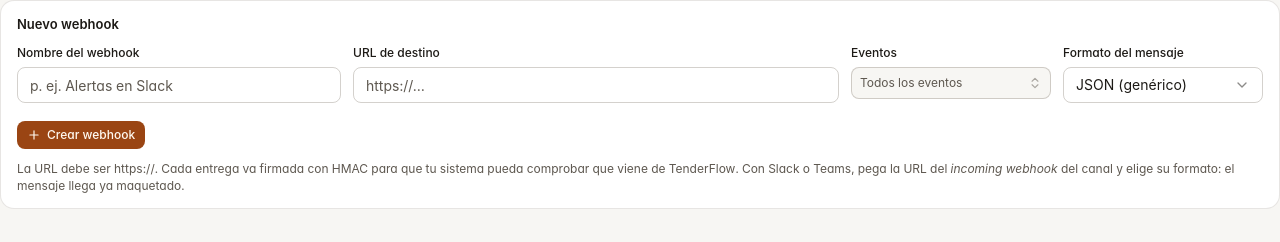
Scenario: CreateForm (webhooks) › una URL que no es https se para en cliente, como la pararía el backend
The width and height of the screenshot is (1280, 242).
In the field labelled "Nombre del webhook": (179,85) left=17, top=67, right=341, bottom=103, type "Slack"
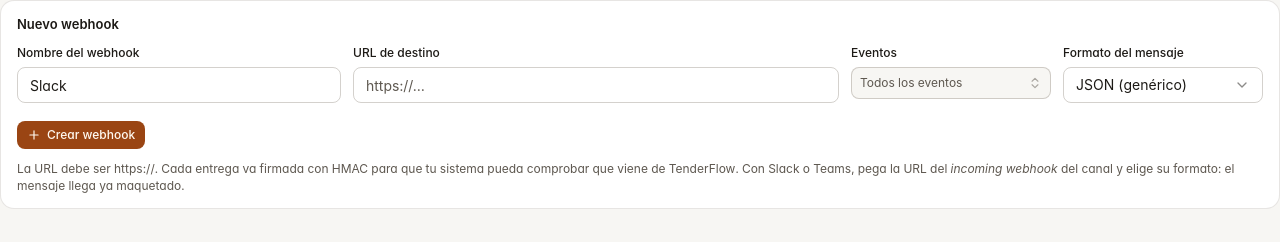
In the field labelled "URL de destino": (596,85) left=353, top=67, right=839, bottom=103, type "http://hooks.example.test/x"
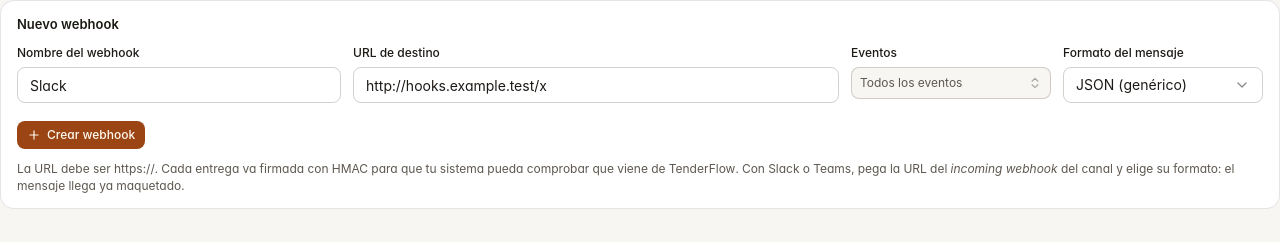
Click the button "Crear webhook": (81,135) left=17, top=121, right=145, bottom=149
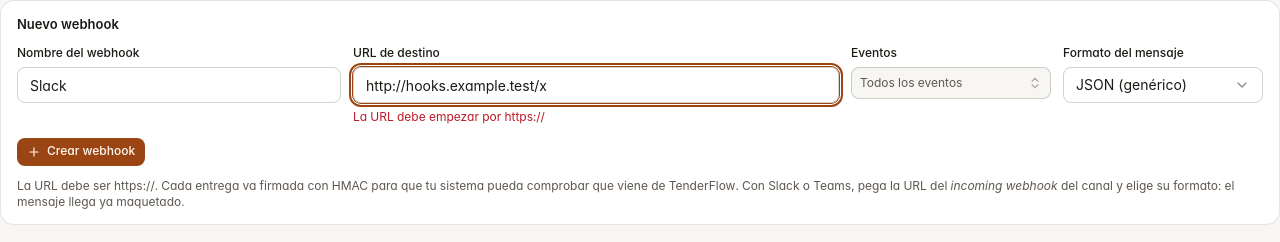
Now the text "La URL debe empezar por https://" is shown, box left=353, top=109, right=545, bottom=124
